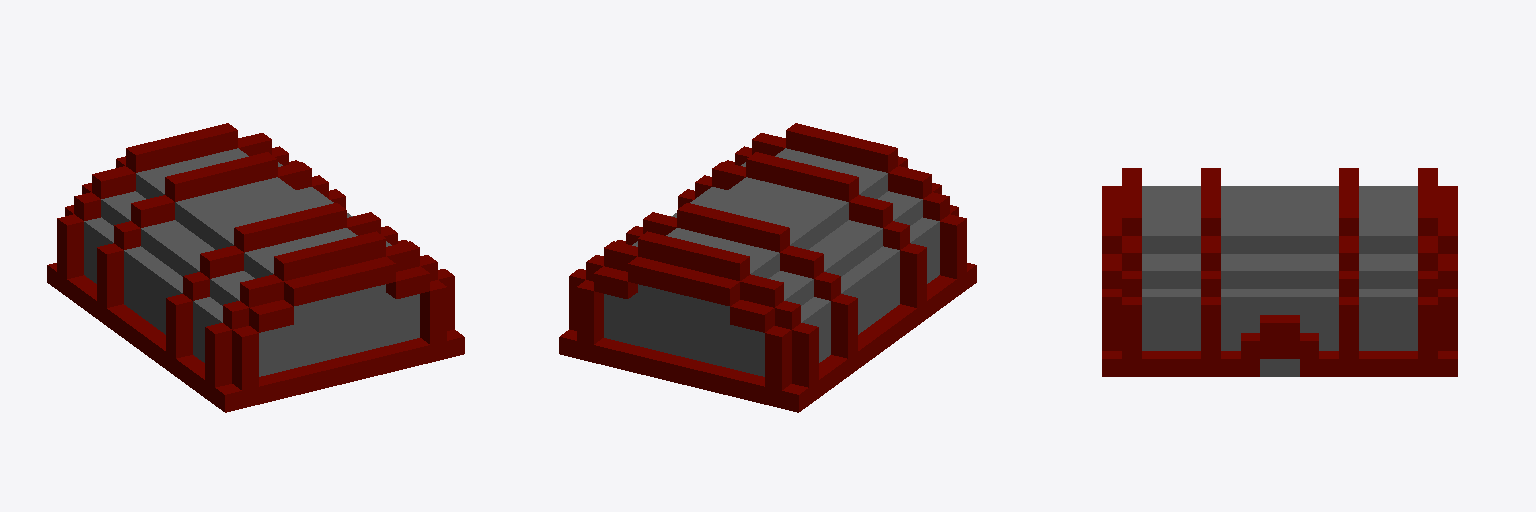
The picture shows the model from 3 angles: view 1: azimuth 30°, elevation 25°; view 2: azimuth 150°, elevation 25°; view 3: azimuth 270°, elevation 25°; orthographic projection.
Visible parts, largest first — view 1: Matrix_part_12; view 2: Matrix_part_12; view 3: Matrix_part_12.
Boxes of the visible parts, x1,y1,x2,y2 form: Matrix_part_12: [47, 123, 464, 412]; Matrix_part_12: [559, 123, 976, 412]; Matrix_part_12: [1102, 168, 1457, 376].
Size of the model in its own units: 14 by 7 by 18.
Materials: 1 (1 with a texture image).